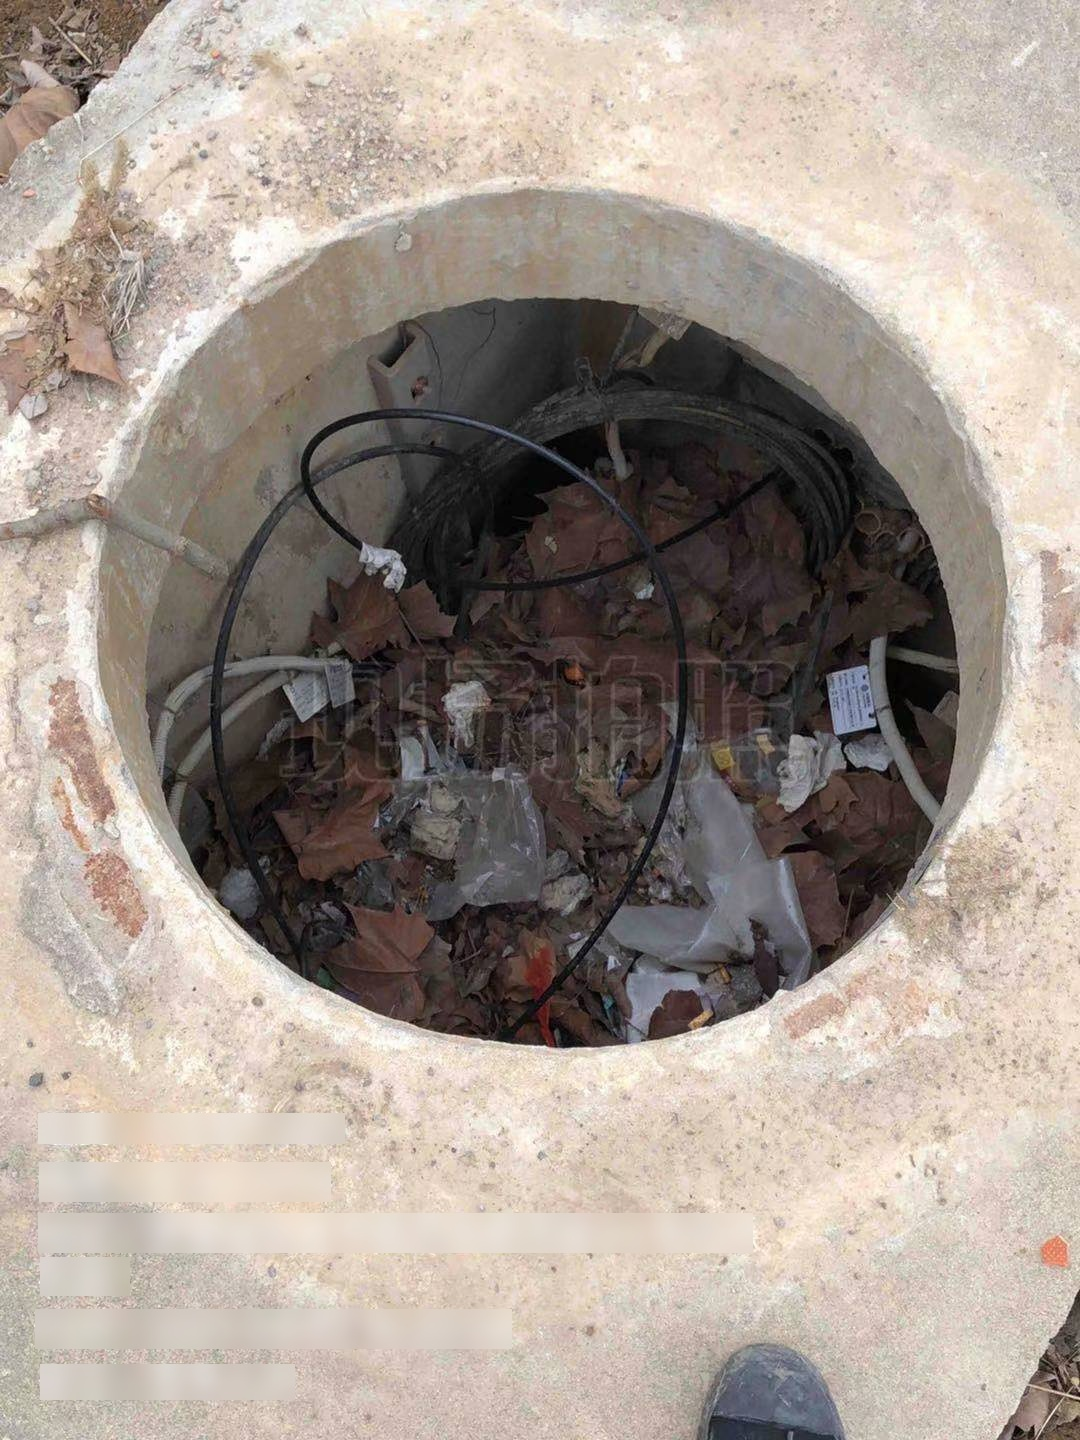lose: (90, 172, 1007, 1050)
